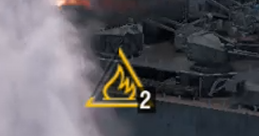2fire: (81, 71, 158, 114)
